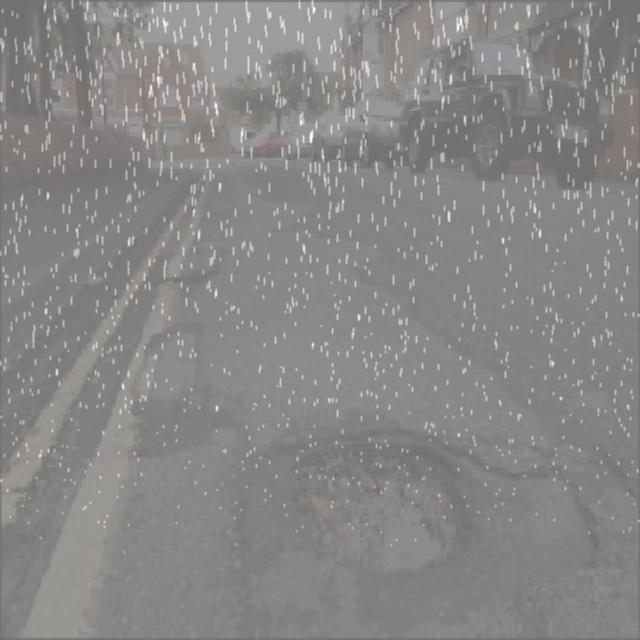Pothole: (287, 423, 471, 588), (129, 324, 210, 434), (174, 233, 222, 282)
